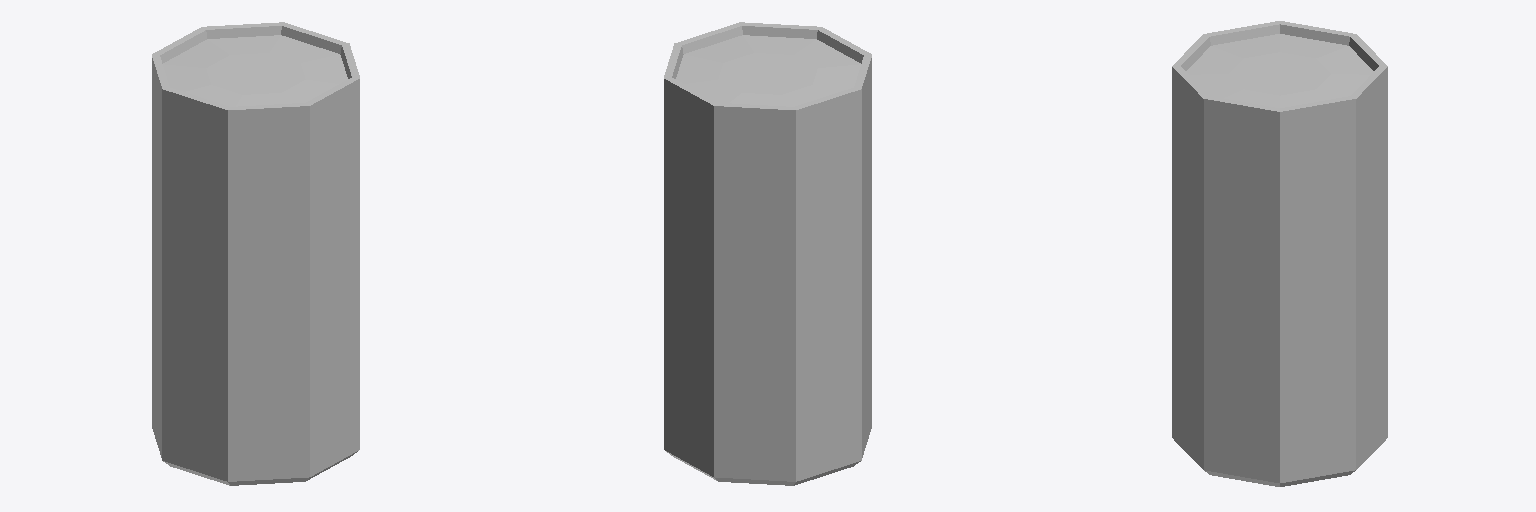
The picture shows the model from 3 angles: view 1: azimuth 30°, elevation 25°; view 2: azimuth 150°, elevation 25°; view 3: azimuth 270°, elevation 25°; orthographic projection.
Visible parts, largest first — view 1: GlassOfBeer_Circle.005; view 2: GlassOfBeer_Circle.005; view 3: GlassOfBeer_Circle.005.
Part boxes in pixels (left/top/right/bottom): GlassOfBeer_Circle.005: left=152, top=22, right=359, bottom=485; GlassOfBeer_Circle.005: left=664, top=22, right=871, bottom=485; GlassOfBeer_Circle.005: left=1172, top=21, right=1387, bottom=486.
Size of the model in its own units: 5.11 by 9.89 by 5.11.